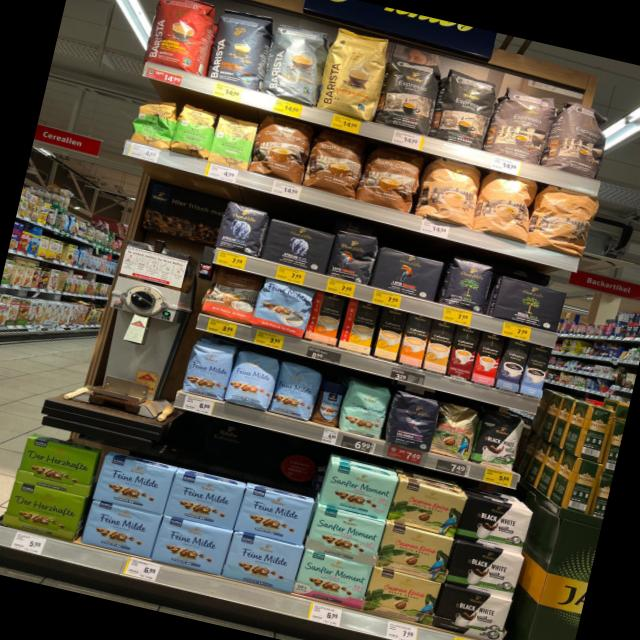AB Bohne: (214, 196, 271, 258)
AB Gemahlen: (260, 218, 335, 274)
Athiopien Bohne: (128, 92, 182, 152), (168, 100, 220, 160)
Athiopien Gemahlen: (208, 112, 260, 172)
BM Bohne: (440, 253, 498, 315)
BM Gemahlen: (489, 272, 568, 334)
BW Bohne: (471, 409, 526, 471)
BW Gemahlen: (444, 540, 525, 600), (456, 494, 534, 554), (432, 583, 514, 640)
Barista CB: (316, 26, 392, 120)
Barista CC: (260, 20, 332, 106)
Barista Espresso: (205, 5, 275, 90)
Barista Kolumbien: (142, 0, 219, 75)
C Fino Bohne: (382, 390, 442, 454)
CC Mild: (528, 183, 600, 259), (473, 168, 541, 244), (417, 155, 486, 229)
CC Vollmundig: (202, 266, 262, 326)
CC Vollmundig 36 Pads: (356, 140, 426, 215), (248, 110, 317, 184), (303, 125, 370, 198)
Colombia BB Bohne: (430, 401, 481, 462)
Colombia BB Gemahlen: (363, 566, 442, 627), (375, 522, 455, 582), (389, 479, 467, 538)
Espresso Kraftig: (430, 66, 500, 150), (376, 55, 445, 135)
Espresso M Art: (486, 80, 558, 166), (546, 93, 616, 180)
FM 36 Pads: (252, 277, 314, 338)
FM Bohne: (224, 347, 280, 412), (180, 338, 236, 402), (268, 357, 322, 422)
FM Gemahlen: (222, 530, 304, 593), (93, 452, 174, 514), (164, 470, 244, 531), (152, 515, 232, 576), (235, 485, 315, 546), (81, 498, 161, 558)
FM Instant: (310, 377, 347, 429)
Herzhatfe Mundig: (2, 479, 84, 542), (15, 436, 98, 498)
LG Bohne: (326, 224, 382, 287)
LG Gemahlen: (369, 245, 446, 302)
SM Bohne: (338, 380, 392, 440)
SM Gemahlen: (306, 503, 387, 566), (292, 548, 372, 610), (321, 460, 398, 520)
Simo CCMild: (338, 298, 379, 353)
Simo CCMild bigpack: (374, 306, 406, 360)
Simo CCVollmundig: (304, 290, 346, 344)
Simo CCVollmundig bigpack: (398, 313, 432, 367)
Simo Decaff: (422, 319, 456, 373)
Simo Es Brazil: (470, 331, 504, 386)
Simo Es Caramel: (448, 324, 480, 378)
Simo Es Kraft: (496, 337, 531, 392)
Simo Es Vanilla: (520, 343, 552, 398)
